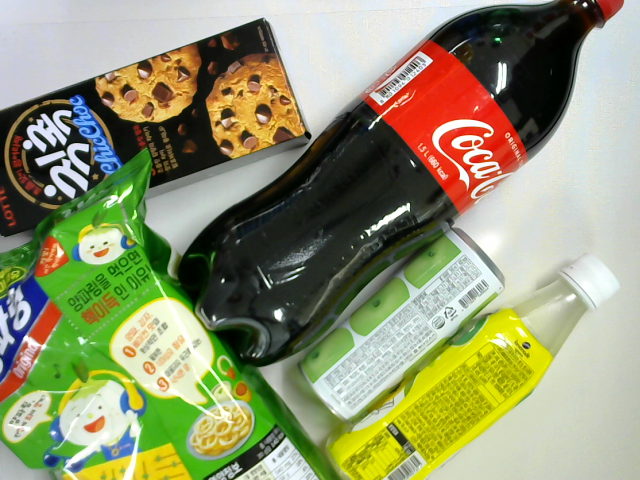Chicchok_Original_2400: (1, 14, 312, 237)
Coca_Cola_1.5L: (177, 1, 626, 368)
Demisoda_Apple_Can_250ml: (299, 226, 506, 425)
Oninon_Ring: (1, 146, 344, 480)
Sunkist_Lemonaid_Pet: (323, 252, 623, 479)
